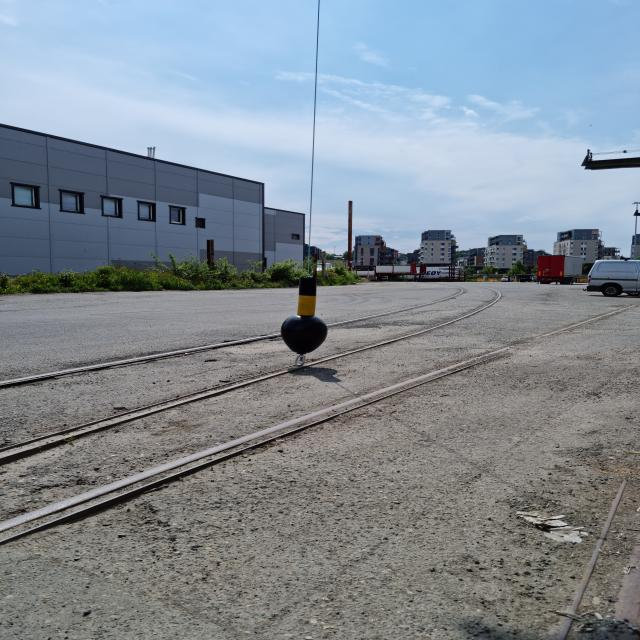east: (280, 276, 328, 354)
